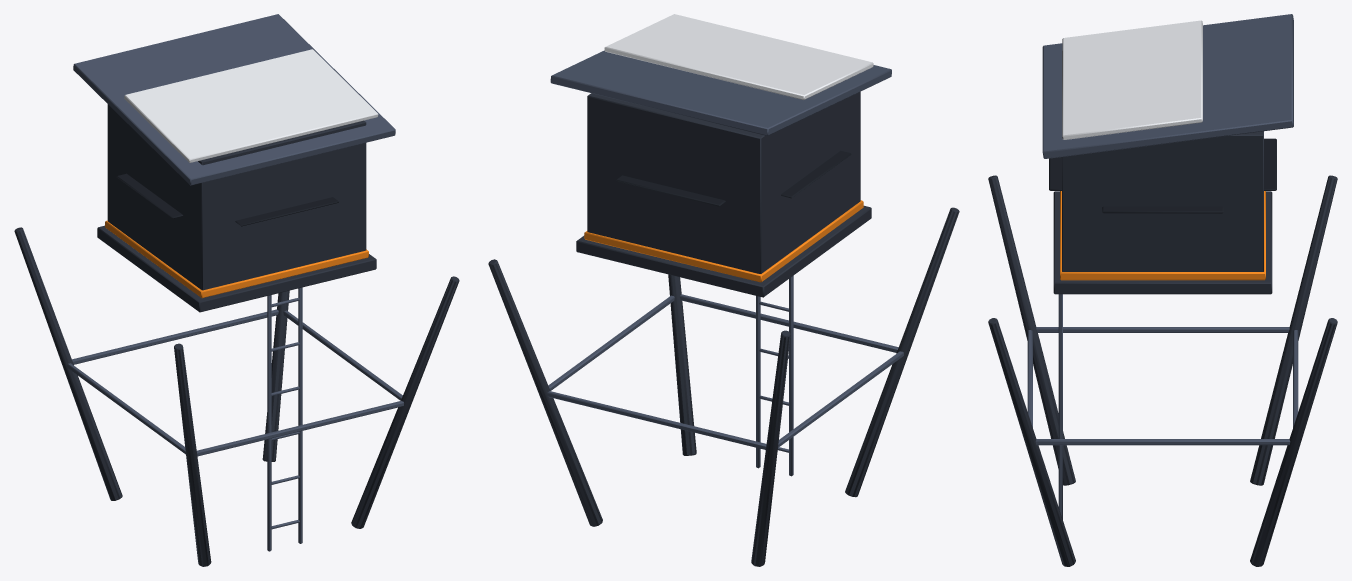
Rendered from watchtower.glb.
3 renders of one model, left to right at view 1: azimuth 30°, elevation 25°; view 2: azimuth 150°, elevation 25°; view 3: azimuth 270°, elevation 25°, orthographic. The views are drawn at different scales.
Parts seen in each view (by area): view 1: watchtower; view 2: watchtower; view 3: watchtower.
Part boxes in pixels (x1,y1,x2,y2): watchtower: (14,14,459,566); watchtower: (488,14,959,566); watchtower: (988,14,1337,566).
Size of the model in its own units: 3.28 by 4.75 by 3.28.
